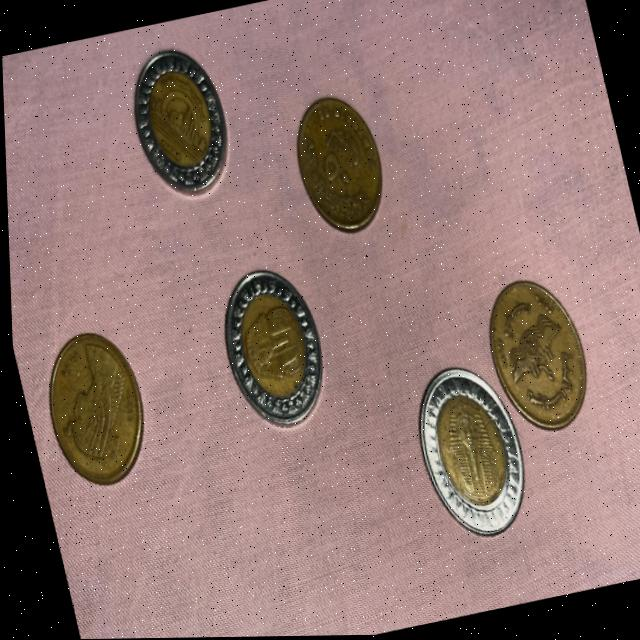Half Pound: (24, 315, 163, 503), (469, 252, 601, 444), (269, 77, 401, 258)
One Pound: (393, 350, 538, 562), (201, 254, 343, 451), (115, 33, 244, 209)
